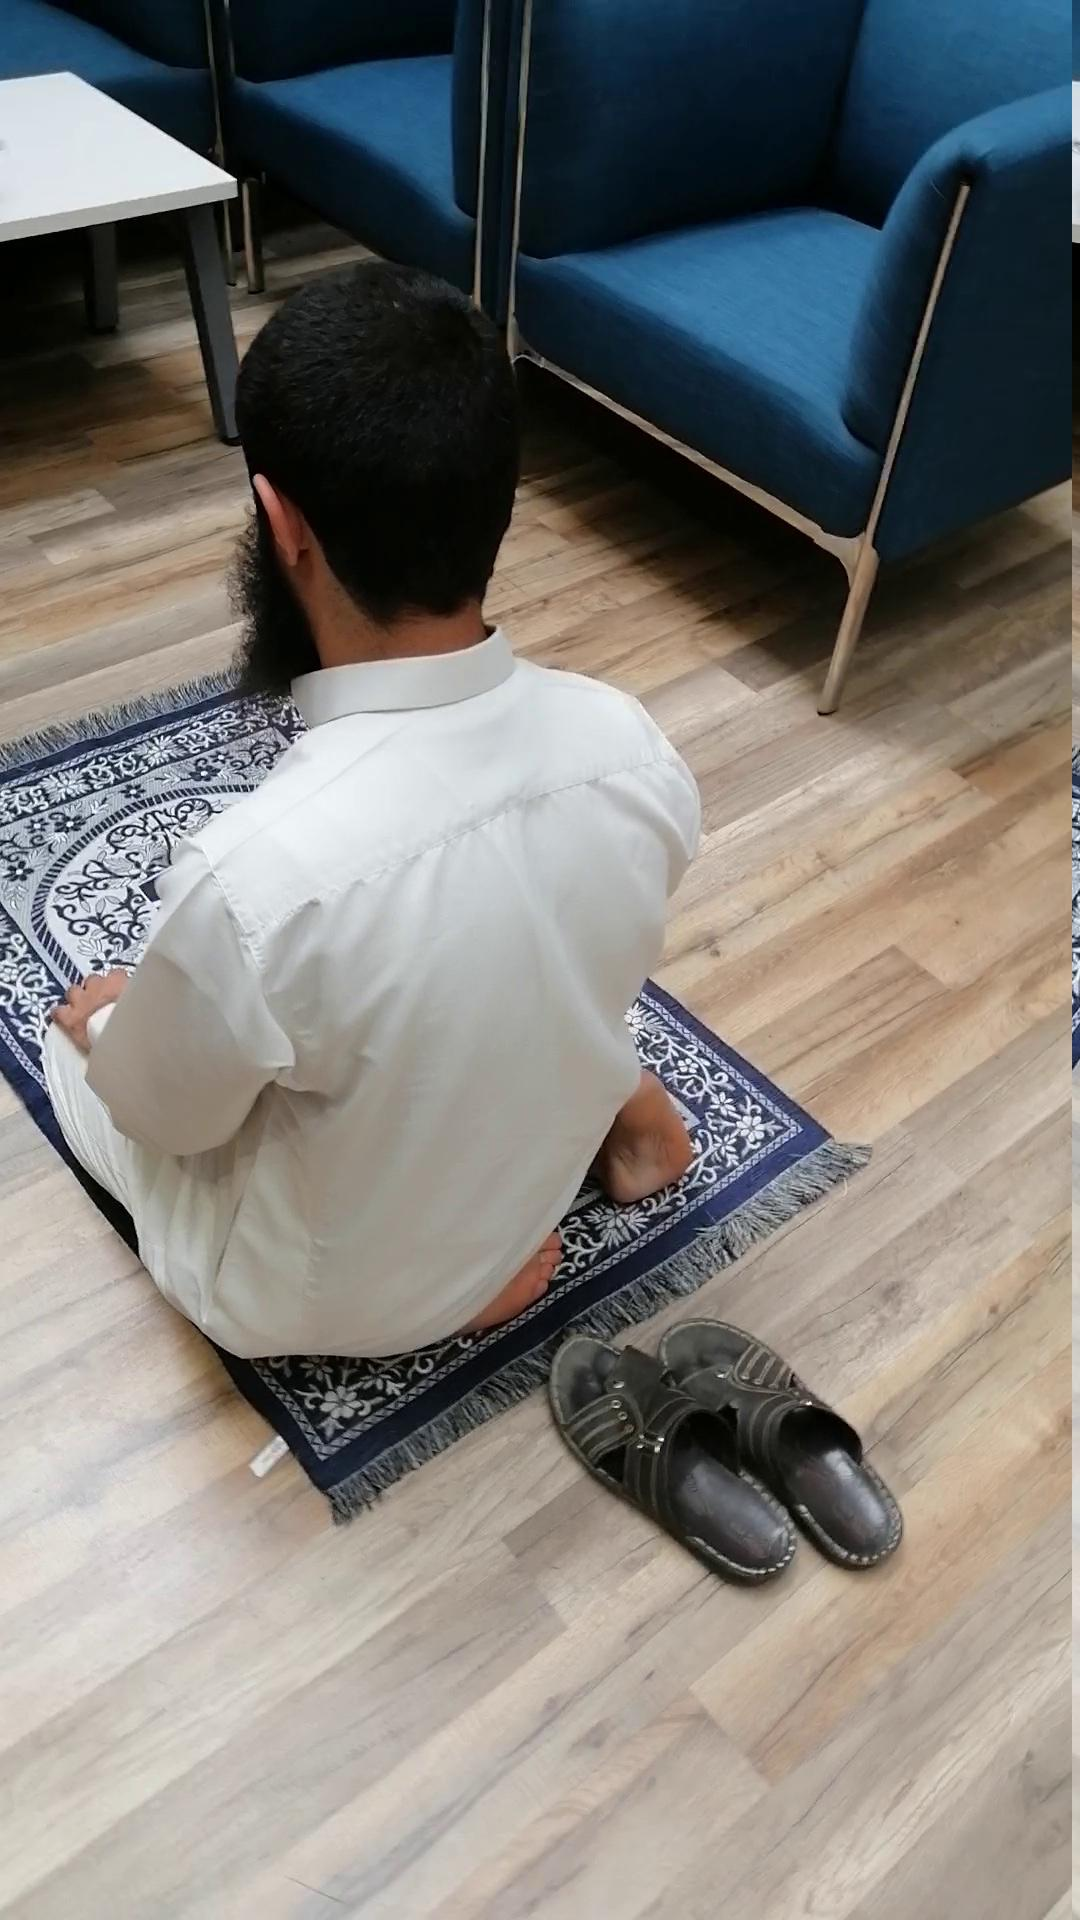sujud: (33, 258, 705, 1361)
